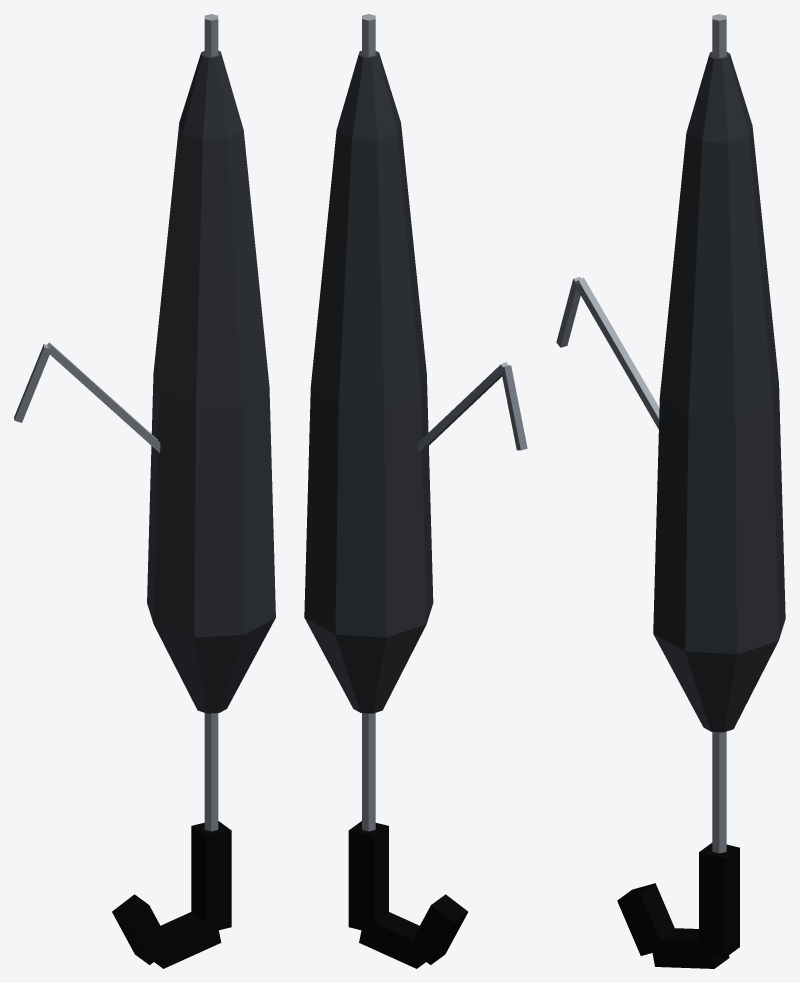
Rendered from Item_umbrella_broken.fbx.
3 renders of one model, left to right at view 1: azimuth 30°, elevation 25°; view 2: azimuth 150°, elevation 25°; view 3: azimuth 330°, elevation 25°, orthographic. The views are drawn at different scales.
Parts seen in each view (by area): view 1: Canopy, Handle, Shaft, Rib; view 2: Canopy, Handle, Shaft, Rib; view 3: Canopy, Handle, Rib, Shaft.
Boxes of the visible parts, <box> form: Canopy: <box>147,50,275,713</box>; Handle: <box>112,821,231,968</box>; Shaft: <box>204,14,218,831</box>; Rib: <box>14,342,160,452</box>; Canopy: <box>304,50,433,713</box>; Handle: <box>348,821,467,968</box>; Shaft: <box>362,14,375,831</box>; Rib: <box>417,362,527,453</box>; Canopy: <box>653,52,785,732</box>; Handle: <box>617,843,739,968</box>; Rib: <box>556,277,659,429</box>; Shaft: <box>712,14,726,853</box>.
Bounding box in the file's own units: 0.2752 × 1.04 × 0.135.
